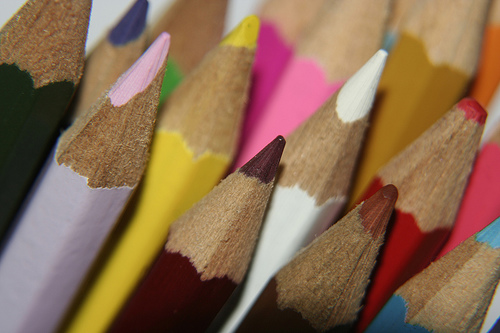pen_tip: (165, 131, 295, 288)
